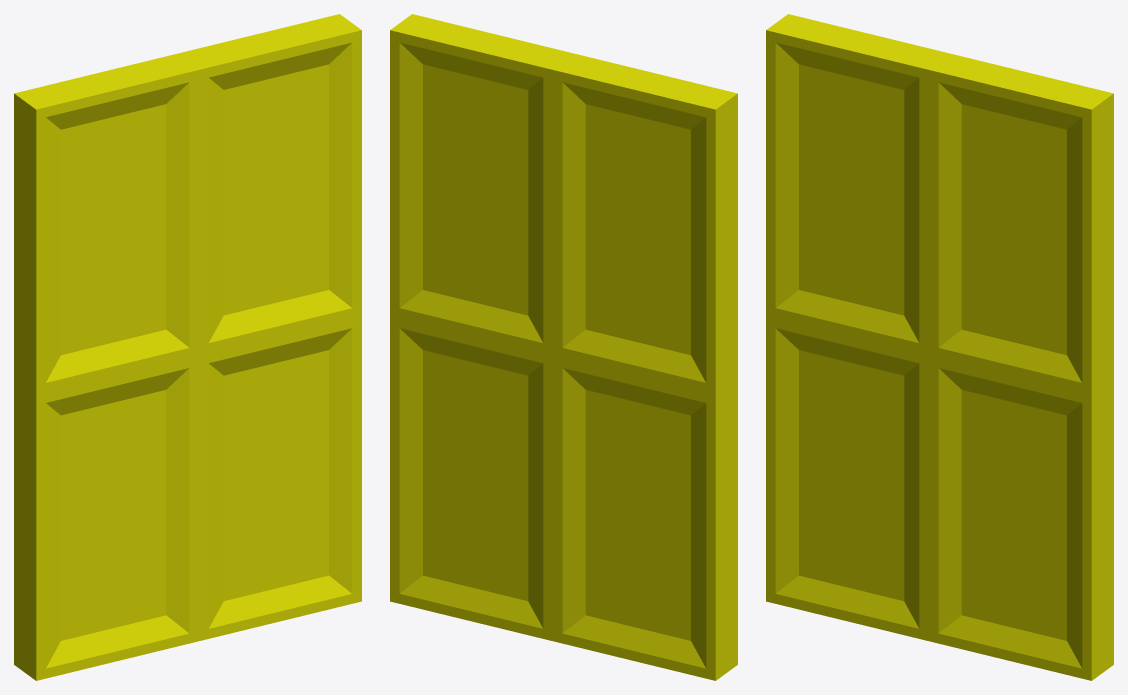
Rendered from door.fbx.
3 views of the same model, side by side, from view 1: azimuth 30°, elevation 25°; view 2: azimuth 150°, elevation 25°; view 3: azimuth 330°, elevation 25° (orthographic).
Visible parts, largest first — view 1: door; view 2: door; view 3: door.
Part boxes in pixels (x1,y1,x2,y2): door: (14, 14, 361, 680); door: (390, 14, 737, 680); door: (766, 14, 1113, 680).
Size of the model in its own units: 170 by 285 by 20.
